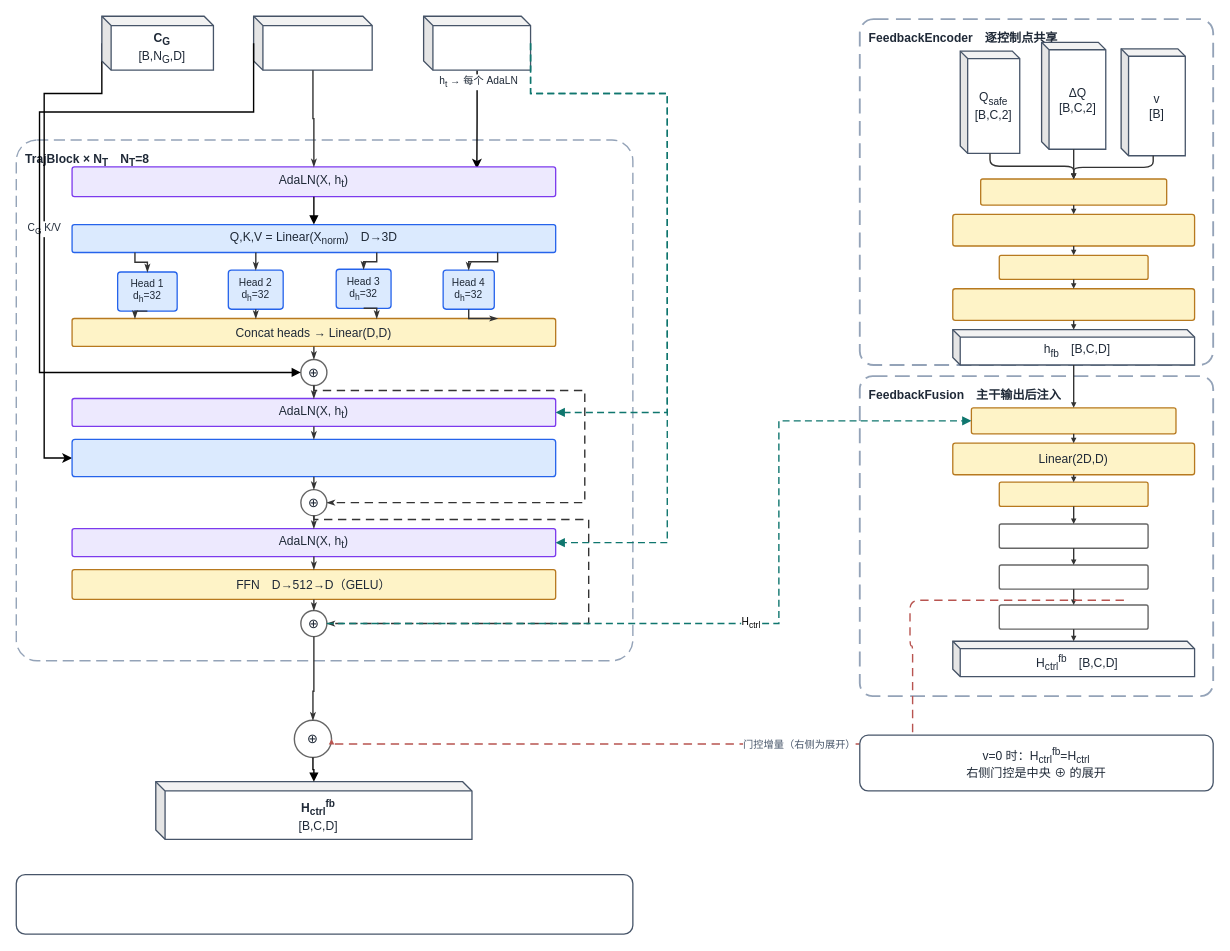
Image size: 1230x951. Some labels were removed from this diagram. The shapes that lost their labels are listed below. From the top down, each one's centre as x and y in pixels, then its label:
At [312,42]: "X 0 [B,C,D]".
At [476,42]: "h t [B,D]".
At [1073,191]: "Concat(Q safe , ΔQ, v) [B,C,5]".
At [1073,229]: "Linear(5,64)".
At [1073,267]: "SiLU".
At [1073,304]: "Linear(64,D) 零初始化".
At [1073,420]: "Concat(H ctrl , h fb ) [B,C,2D]".
At [313,457]: "场景交叉注意力 Q=X norm ，K/V=C G".
At [1073,494]: "Sigmoid".
At [1073,536]: "⊙ v（按批次广播）".
At [1073,576]: "⊙ h fb".
At [1073,616]: "⊕ H ctrl".
At [324,904]: "X 0 = MLP T (Φ xy (Q t )) + PE 1D C=48，D=128，N G =256；⊕：残差相加".
